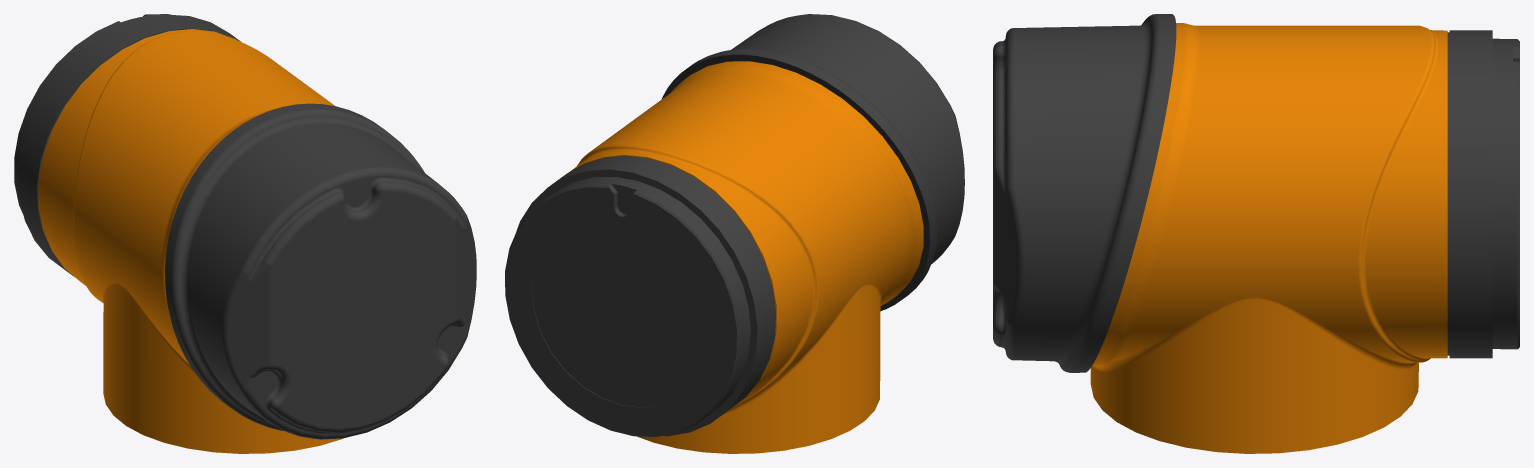
The picture shows the model from 3 angles, left to right: view 1: azimuth 30°, elevation 25°; view 2: azimuth 150°, elevation 25°; view 3: azimuth 270°, elevation 25°; orthographic projection. The views are drawn at different scales.
Visible parts, largest first — view 1: NONE; view 2: NONE; view 3: NONE.
Part boxes in pixels (bbox=[...]): NONE: bbox=[14, 14, 476, 453]; NONE: bbox=[505, 14, 964, 453]; NONE: bbox=[993, 14, 1519, 453].
Bounding box in the file's own units: 0.082 × 0.1203 × 0.0892.
